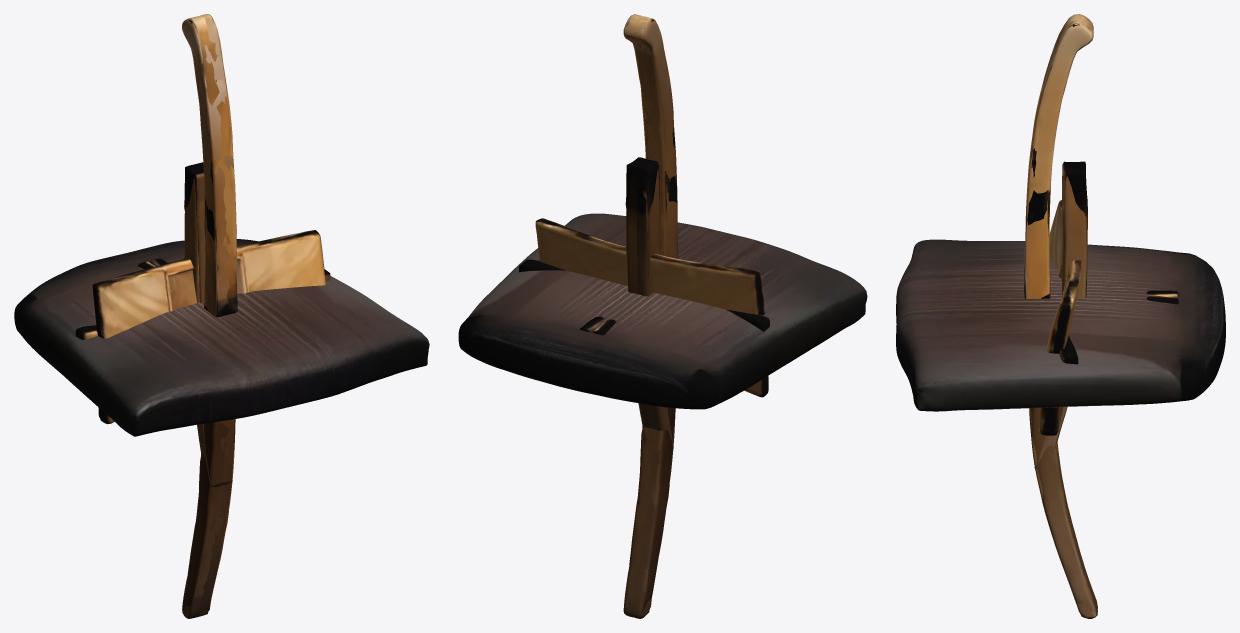
3 views of the same model, side by side, from view 1: azimuth 30°, elevation 25°; view 2: azimuth 150°, elevation 25°; view 3: azimuth 270°, elevation 25° (orthographic).
Parts seen in each view (by area): view 1: root.0, root.1, root.2, root.3, root.9, root.8; view 2: root.0, root.1, root.2, root.3, root.8, root.9, root.4; view 3: root.0, root.3, root.2, root.1, root.9, root.8.
Part boxes in pixels (left/top/right/bottom): root.0: left=14, top=239, right=429, bottom=436; root.1: left=92, top=230, right=325, bottom=424; root.2: left=182, top=14, right=237, bottom=618; root.3: left=182, top=14, right=237, bottom=618; root.9: left=184, top=164, right=232, bottom=485; root.8: left=184, top=162, right=224, bottom=486; root.0: left=458, top=213, right=867, bottom=409; root.1: left=535, top=218, right=768, bottom=397; root.2: left=624, top=14, right=678, bottom=618; root.3: left=623, top=15, right=677, bottom=618; root.8: left=625, top=157, right=673, bottom=448; root.9: left=626, top=158, right=659, bottom=428; root.4: left=519, top=259, right=769, bottom=331; root.0: left=896, top=239, right=1225, bottom=411; root.3: left=1024, top=14, right=1097, bottom=618; root.2: left=1024, top=14, right=1097, bottom=618; root.1: left=1039, top=200, right=1082, bottom=435; root.9: left=1034, top=161, right=1087, bottom=469; root.8: left=1062, top=163, right=1087, bottom=295.
Size of the model in its own units: 18961 by 36524 by 18267.
Materials: 1 (1 with a texture image).
